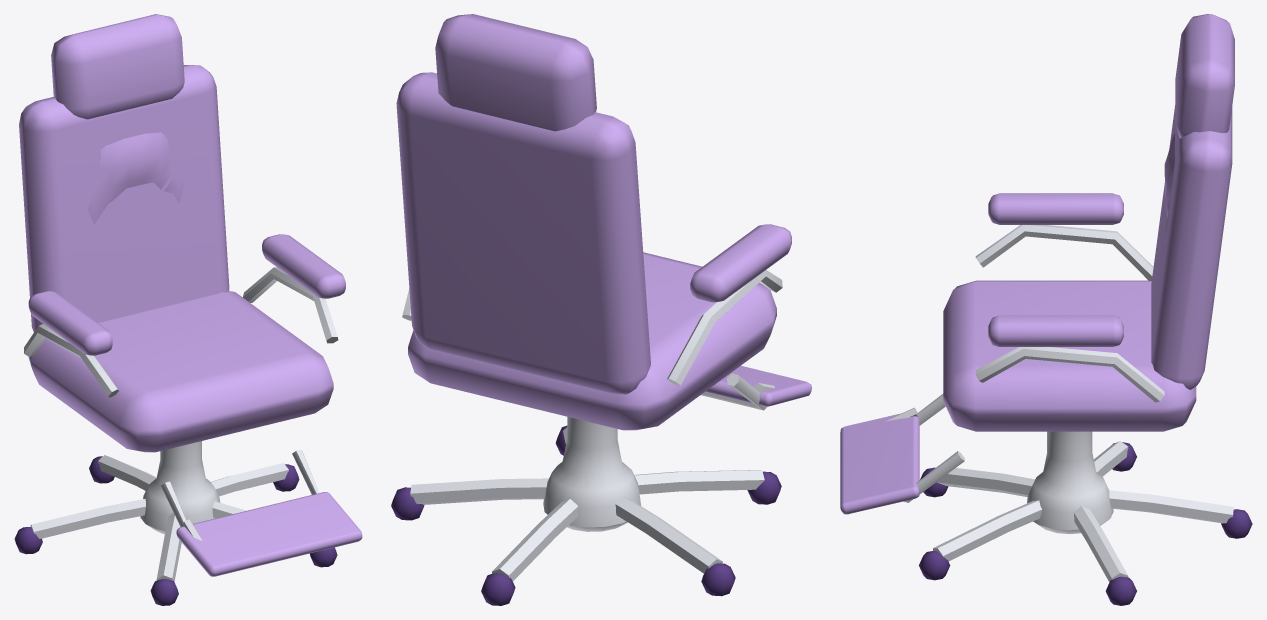
The model's file is chair_styling_hydraulic.glb.
3 renders of one model, left to right at view 1: azimuth 30°, elevation 25°; view 2: azimuth 150°, elevation 25°; view 3: azimuth 270°, elevation 25°, orthographic. The views are drawn at different scales.
Visible parts, largest first — view 1: chair_styling_hydraulic; view 2: chair_styling_hydraulic; view 3: chair_styling_hydraulic.
Part boxes in pixels (<box>): chair_styling_hydraulic: <box>14,14,362,605</box>; chair_styling_hydraulic: <box>391,14,811,605</box>; chair_styling_hydraulic: <box>840,14,1252,605</box>.
Bounding box in the file's own units: 0.7738 × 1.22 × 0.9129.
